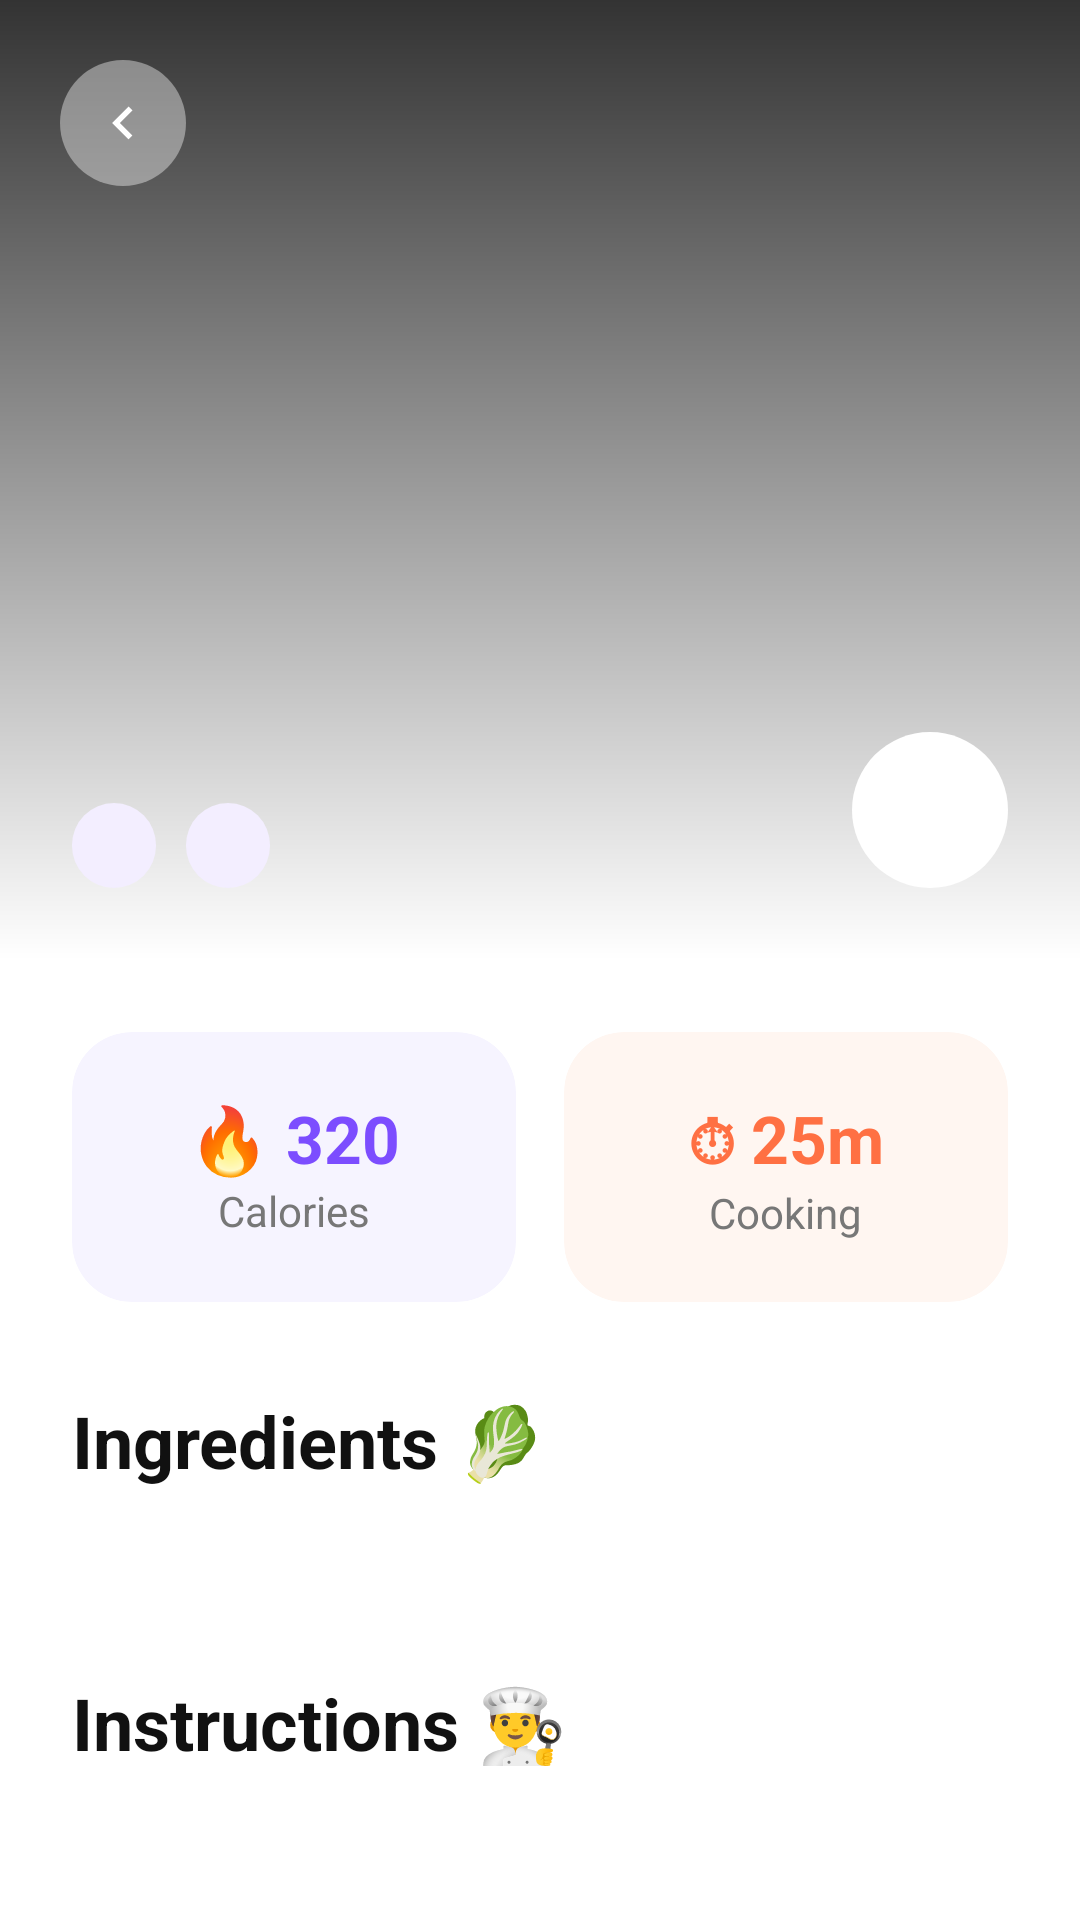

Point at icon controls on the screen. Image size 1080×1920, points as point (x, y).
back: point (123, 123)
